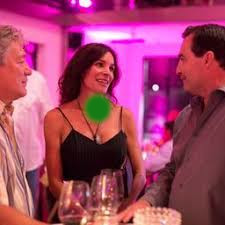focus: (82, 90, 116, 125)
